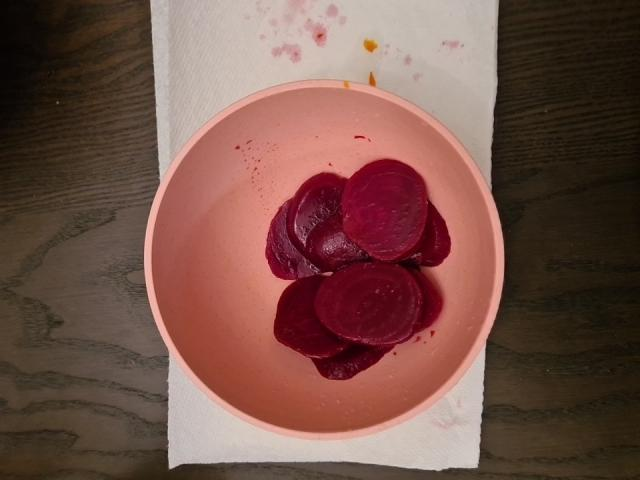kichen waste: (266, 161, 449, 380)
